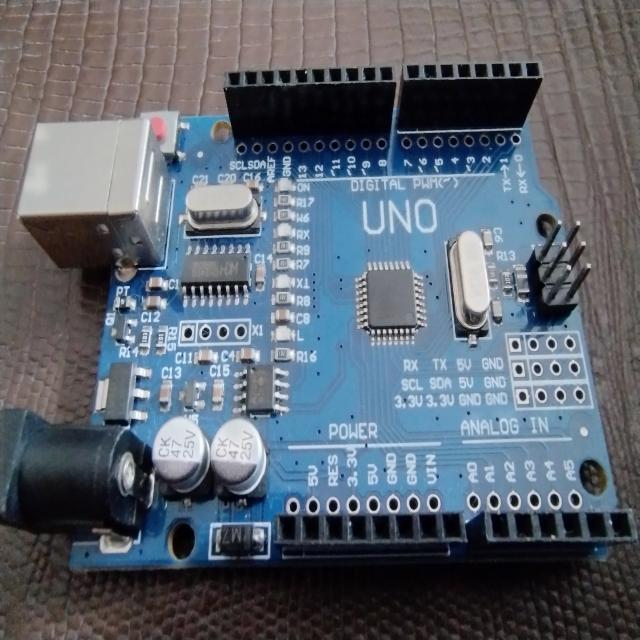arduino: (0, 52, 640, 576)
